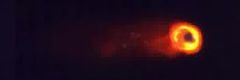keyhole: (182, 31, 196, 44)
